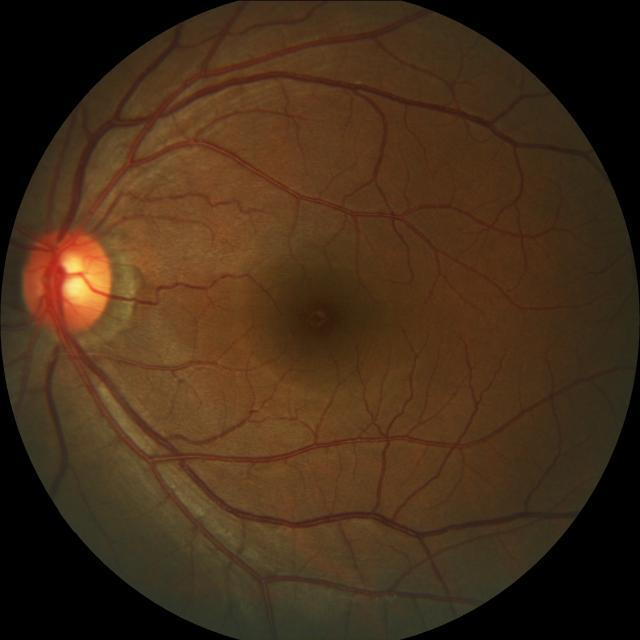OC: (56, 252, 102, 304)
OD: (22, 225, 116, 333)
